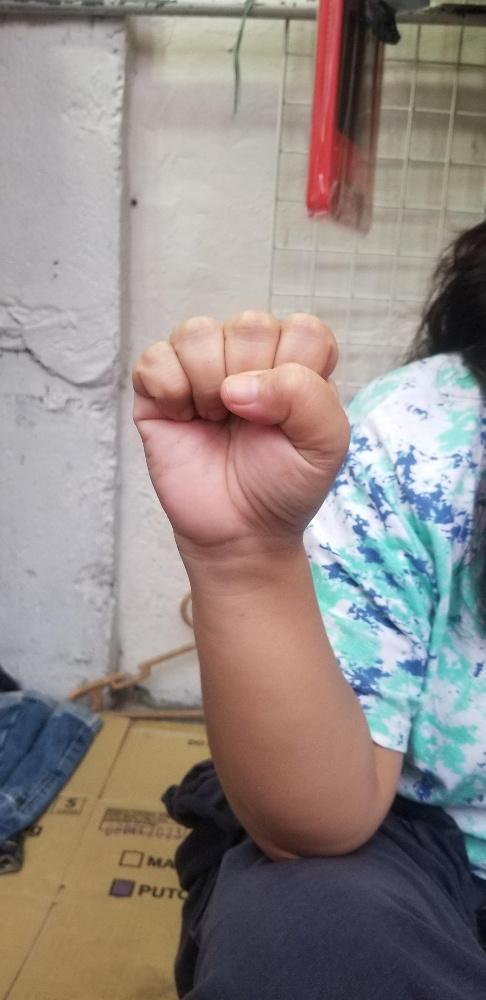s: (128, 305, 352, 534)
